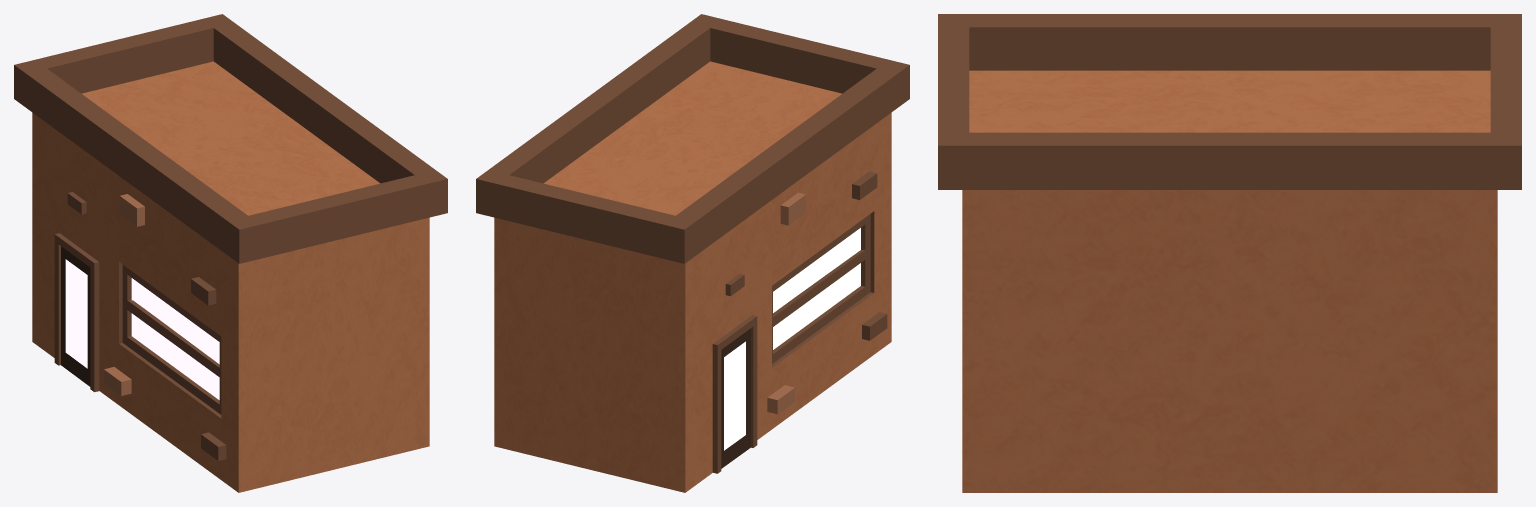
The model's file is Fudge building.fbx.
The picture shows the model from 3 angles, left to right: view 1: azimuth 30°, elevation 25°; view 2: azimuth 150°, elevation 25°; view 3: azimuth 270°, elevation 25°; orthographic projection. The views are drawn at different scales.
Visible parts, largest first — view 1: Fudge building; view 2: Fudge building; view 3: Fudge building.
Part boxes in pixels (x1=…): Fudge building: x1=14, y1=14, x2=447, y2=492; Fudge building: x1=476, y1=14, x2=909, y2=492; Fudge building: x1=938, y1=14, x2=1521, y2=492.
Bounding box in the file's own units: 705 × 873 × 1309.
Materials: 10 (1 with a texture image).
